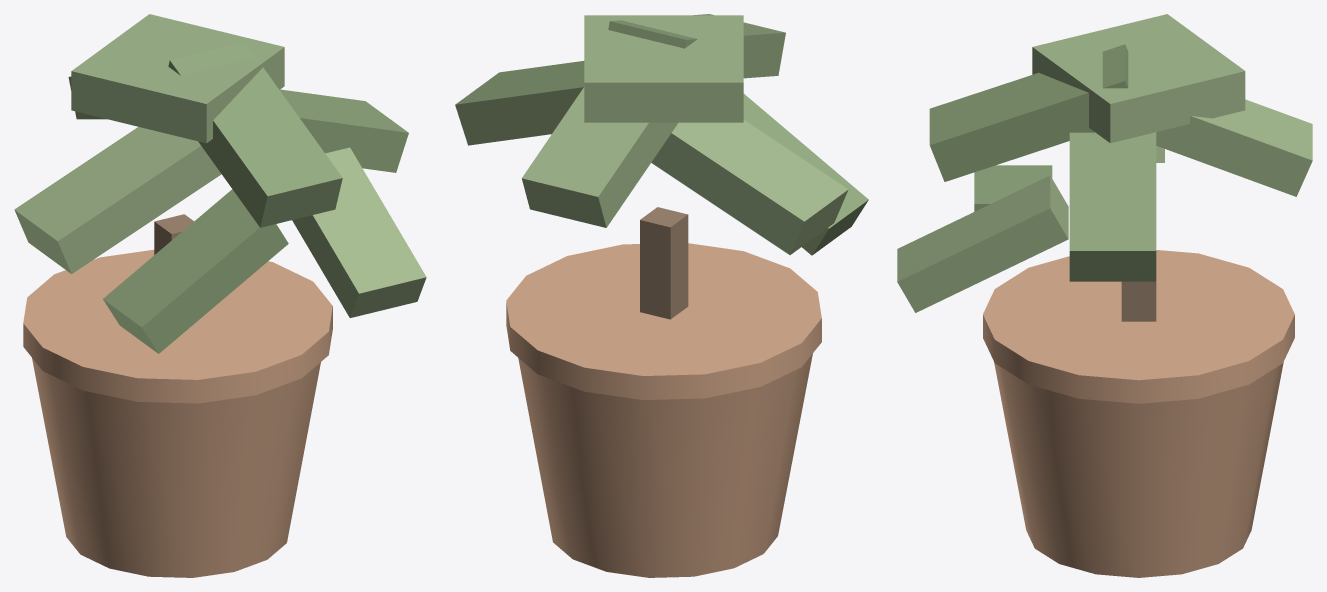
The model's file is table-plant.gltf.
3 views of the same model, side by side, from view 1: azimuth 30°, elevation 25°; view 2: azimuth 150°, elevation 25°; view 3: azimuth 270°, elevation 25° (orthographic). The views are drawn at different scales.
Parts seen in each view (by area): view 1: Pot, PotLip, leaf_5, leaf_1, leaf_4, leaf_6, leaf_7, leaf_2, trunk; view 2: Pot, PotLip, leaf_5, leaf_1, leaf_3, leaf_2, trunk, leaf_6, leaf_4; view 3: Pot, PotLip, leaf_5, leaf_2, leaf_4, leaf_7, leaf_3, leaf_6, trunk.
Part boxes in pixels (box(x1,y1,x2,y2)): Pot: box(32, 358, 320, 577); PotLip: box(23, 249, 332, 403); leaf_5: box(71, 14, 284, 143); leaf_1: box(14, 127, 221, 273); leaf_4: box(168, 42, 342, 227); leaf_6: box(103, 189, 288, 353); leaf_7: box(292, 147, 426, 317); leaf_2: box(280, 89, 408, 172); trunk: box(154, 214, 193, 254); Pot: box(518, 353, 812, 577); PotLip: box(506, 243, 821, 399); leaf_5: box(584, 15, 743, 122); leaf_1: box(651, 120, 848, 254); leaf_3: box(521, 87, 677, 227); leaf_2: box(455, 61, 584, 145); trunk: box(640, 207, 688, 319); leaf_6: box(743, 94, 868, 255); leaf_4: box(608, 14, 785, 78); Pot: box(994, 362, 1283, 577); PotLip: box(983, 250, 1294, 403); leaf_5: box(1032, 14, 1245, 143); leaf_2: box(1069, 132, 1156, 281); leaf_4: box(929, 44, 1128, 181); leaf_7: box(897, 175, 1068, 312); leaf_3: box(1156, 99, 1312, 196); leaf_6: box(974, 165, 1052, 211); trunk: box(1121, 281, 1156, 321).
Size of the model in its own units: 0.0289 by 0.0381 by 0.03.
